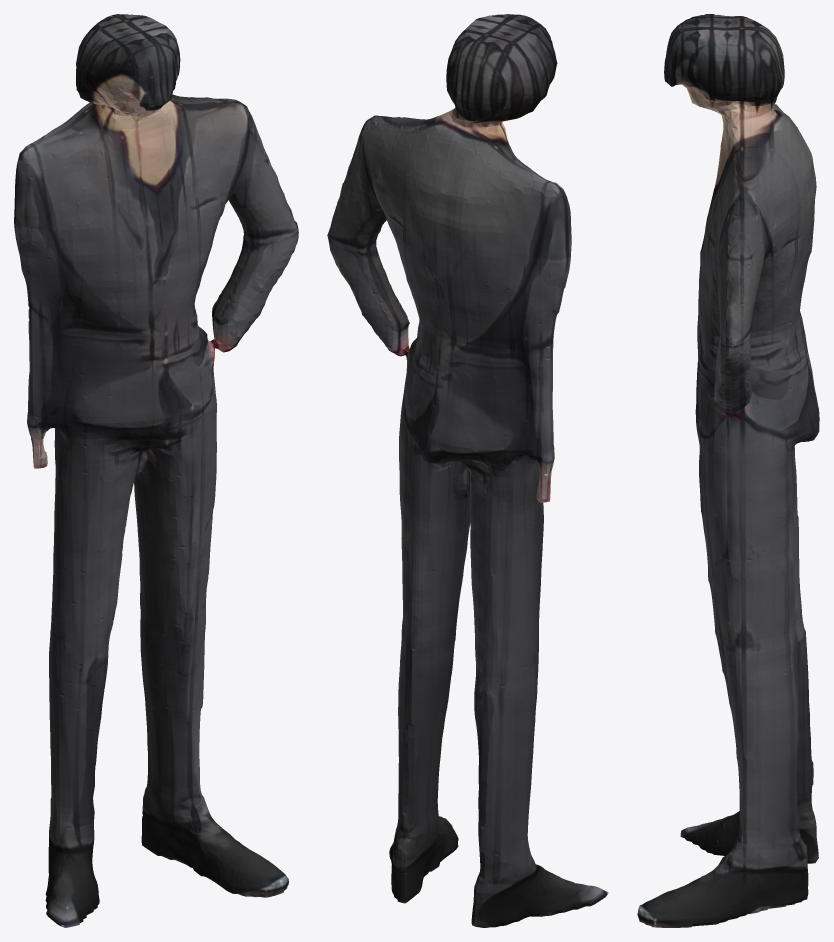
File: anime_men.obj
The picture shows the model from 3 angles, left to right: view 1: azimuth 30°, elevation 25°; view 2: azimuth 150°, elevation 25°; view 3: azimuth 270°, elevation 25°; orthographic projection.
Parts seen in each view (by area): view 1: anime_men; view 2: anime_men; view 3: anime_men.
Boxes of the visible parts, bbox=[...] form: anime_men: bbox=[14, 14, 298, 927]; anime_men: bbox=[327, 14, 608, 927]; anime_men: bbox=[637, 14, 819, 927].
Bounding box in the file's own units: 0.6218 × 1.96 × 0.3823.
1 material, 1 textured.
